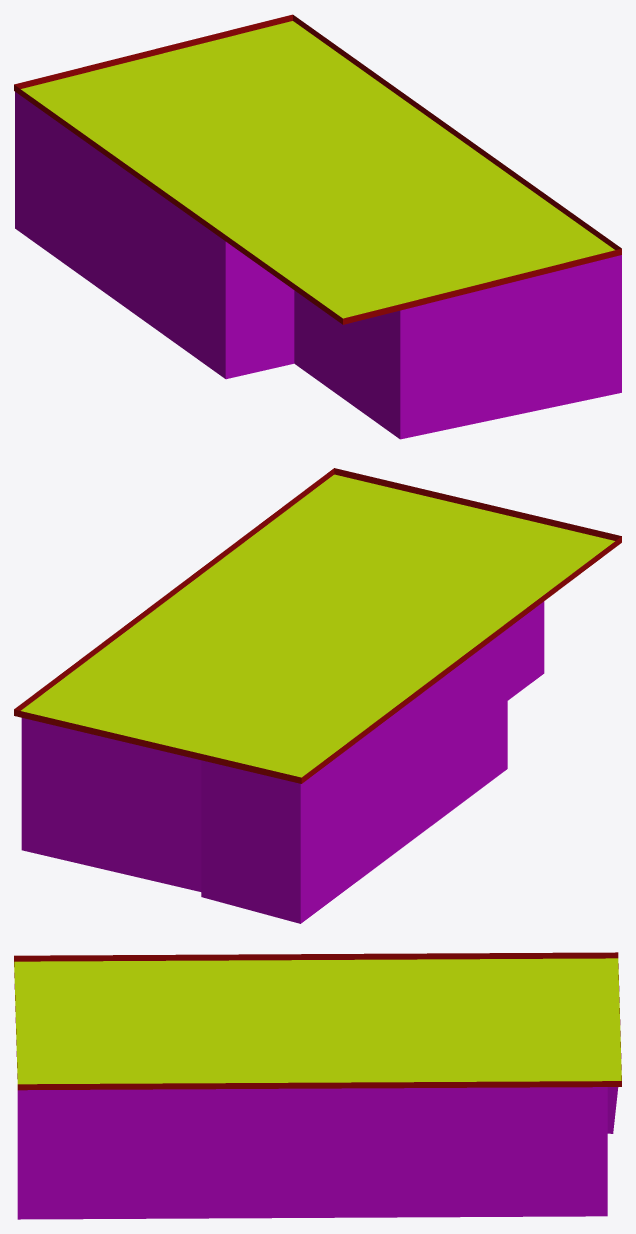
File: bgj_227.glb
The picture shows the model from 3 angles, top to bottom: view 1: azimuth 30°, elevation 25°; view 2: azimuth 150°, elevation 25°; view 3: azimuth 270°, elevation 25°; orthographic projection. The views are drawn at different scales.
Visible parts, largest first — view 1: bgj_227; view 2: bgj_227; view 3: bgj_227.
Part boxes in pixels (x1,y1,x2,y2): bgj_227: (14, 14, 621, 439); bgj_227: (14, 468, 621, 923); bgj_227: (14, 952, 621, 1219).
Bounding box in the file's own units: 16.63 × 7.96 × 32.42.
